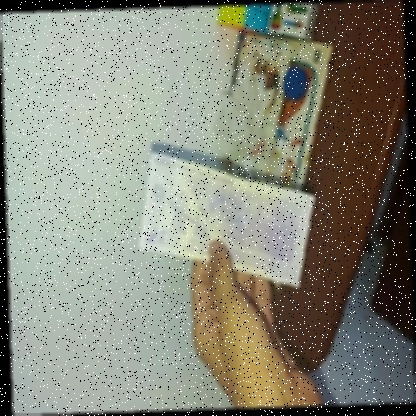two_hundred-back-vef: (136, 151, 316, 289)
